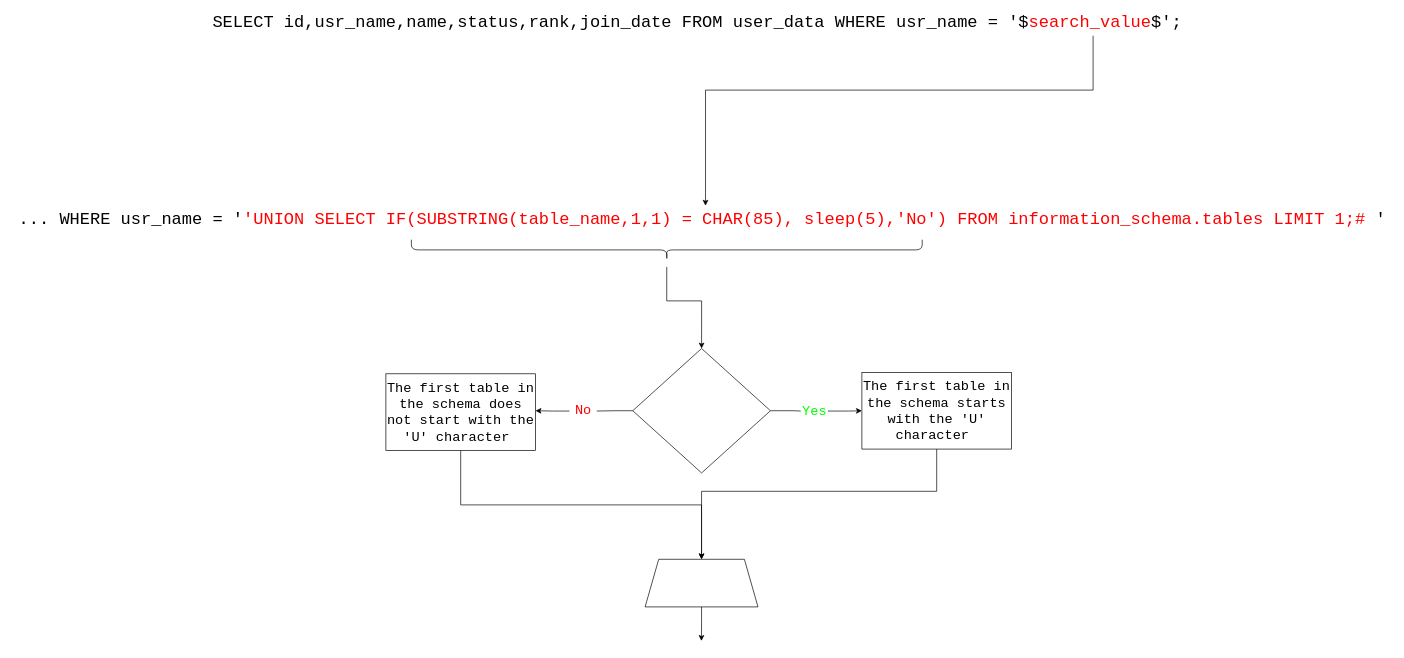
Image size: 1404x658. Some labels were removed from this diagram. Here are the shapes that lost their labels. From the top down, the centre of each, then its label:
At (701,410): "Page Load was delayed?".
At (701,583): "Next Character".
